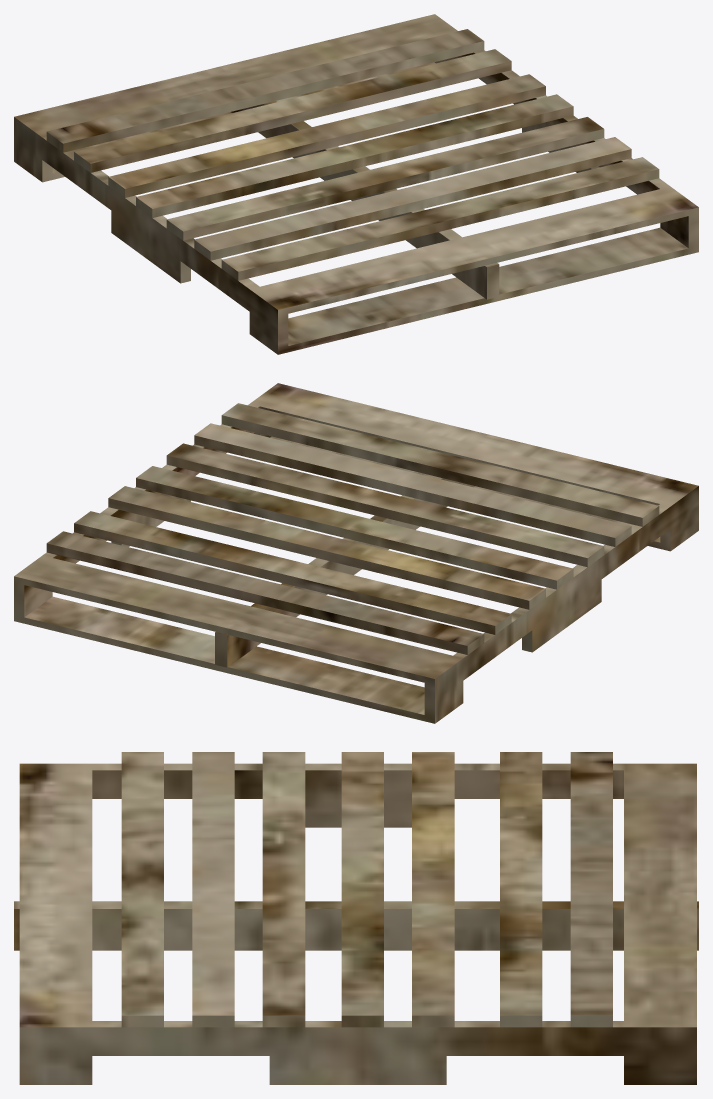
Rendered from wooden_pallet.FBX.
3 renders of one model, top to bottom at view 1: azimuth 30°, elevation 25°; view 2: azimuth 150°, elevation 25°; view 3: azimuth 270°, elevation 25°, orthographic. The views are drawn at different scales.
Visible parts, largest first — view 1: wooden_pallet; view 2: wooden_pallet; view 3: wooden_pallet.
Boxes of the visible parts, left/top/right/bottom form: wooden_pallet: left=14, top=14, right=698, bottom=354; wooden_pallet: left=14, top=383, right=698, bottom=723; wooden_pallet: left=14, top=752, right=698, bottom=1084.
Bounding box in the file's own units: 114 × 13.91 × 125.
